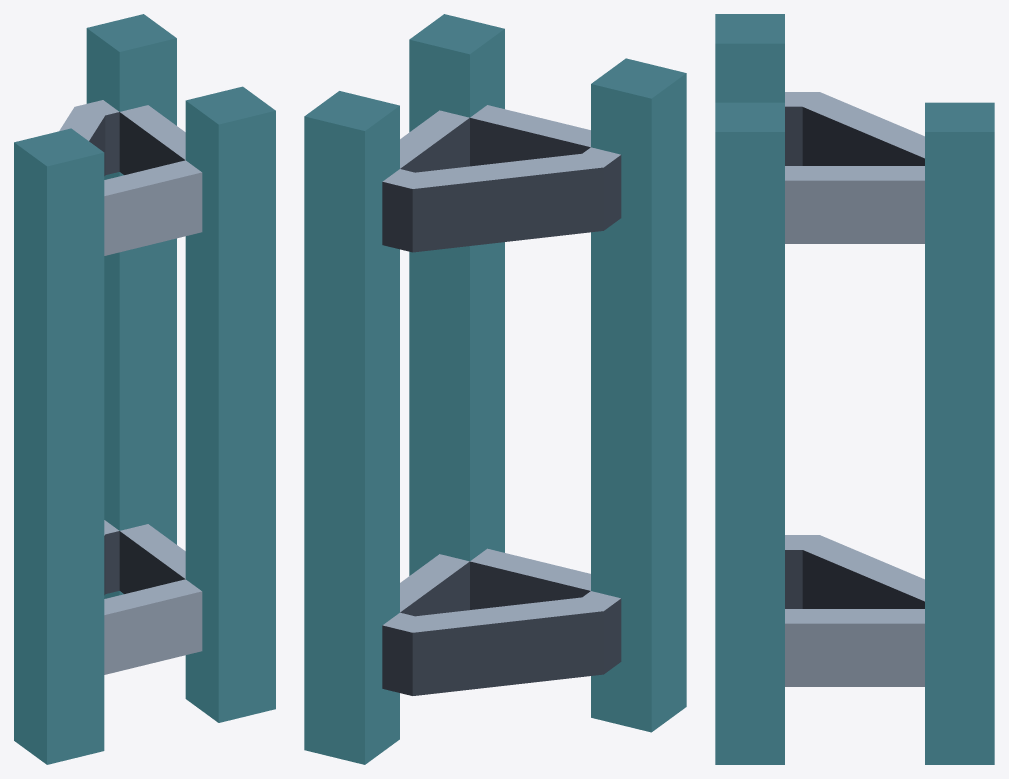
Rendered from monorail_trackSupportCorner.glb.
3 renders of one model, left to right at view 1: azimuth 30°, elevation 25°; view 2: azimuth 150°, elevation 25°; view 3: azimuth 270°, elevation 25°, orthographic. The views are drawn at different scales.
Visible parts, largest first — view 1: monorail_trackSupportCorner; view 2: monorail_trackSupportCorner; view 3: monorail_trackSupportCorner.
Part boxes in pixels (<box>): monorail_trackSupportCorner: <box>14,14,275,764</box>; monorail_trackSupportCorner: <box>304,14,686,764</box>; monorail_trackSupportCorner: <box>715,14,994,764</box>.
Bounding box in the file's own units: 0.2 × 0.5 × 0.2.
